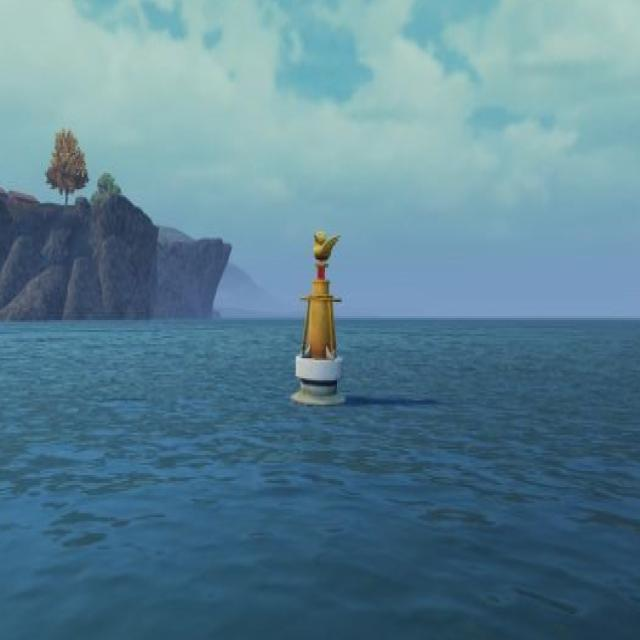buoy: (281, 226, 349, 405)
